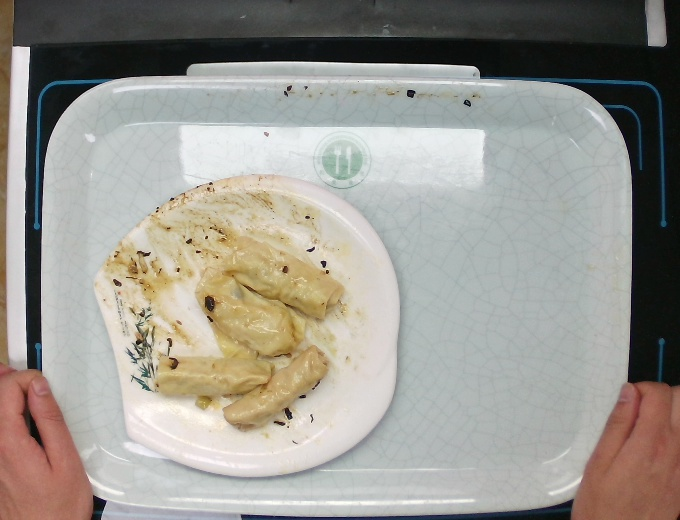JYsf-Mian_Pan: (84, 164, 412, 481)
